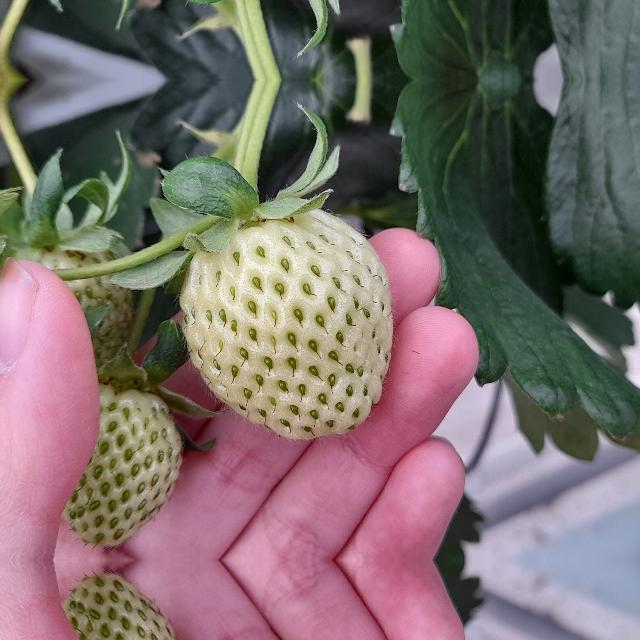Health_25: (178, 207, 392, 438)
